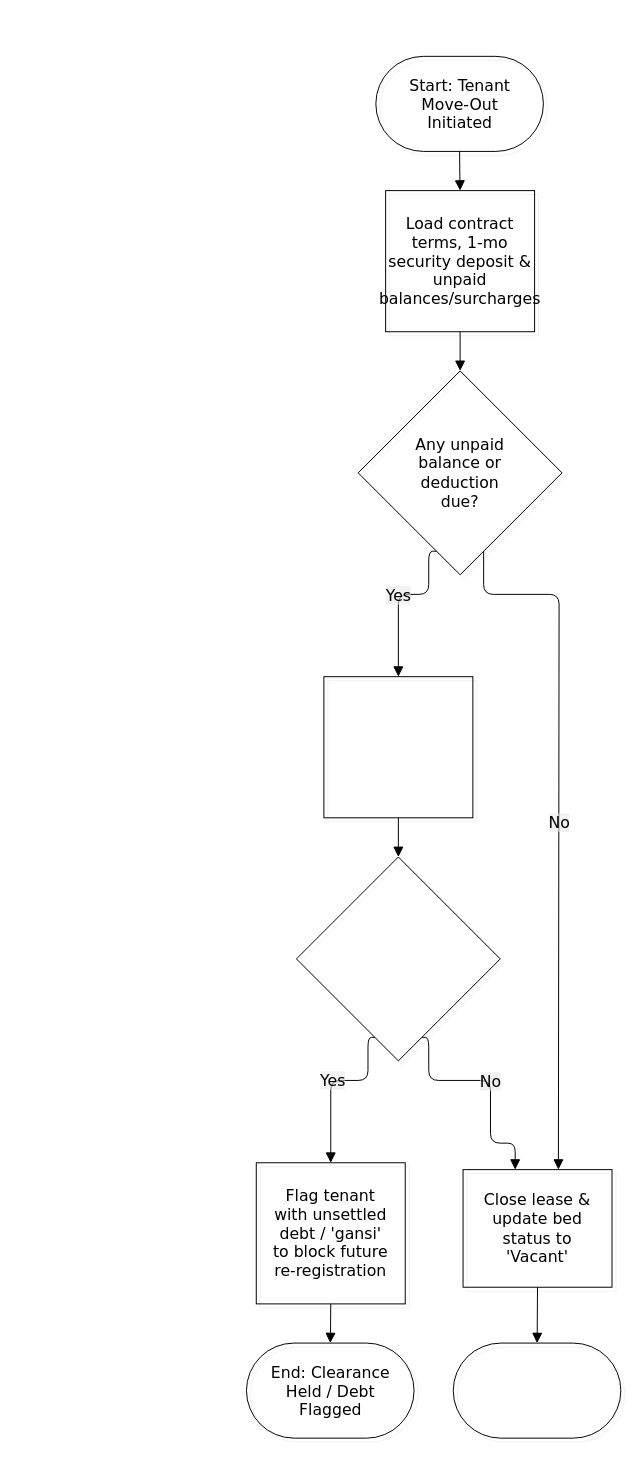
Image size: 642x1459. Some labels were removed from this diagram. Each missing label, with the centre of its shape:
"Deduct owed amount from 1-month deposit & compute net settlement" belongs at (x=400, y=749).
"End: Move-Out Cleared & Bed Vacant" belongs at (x=538, y=1392).
"Unsettled balance still remaining?" belongs at (x=399, y=960).
